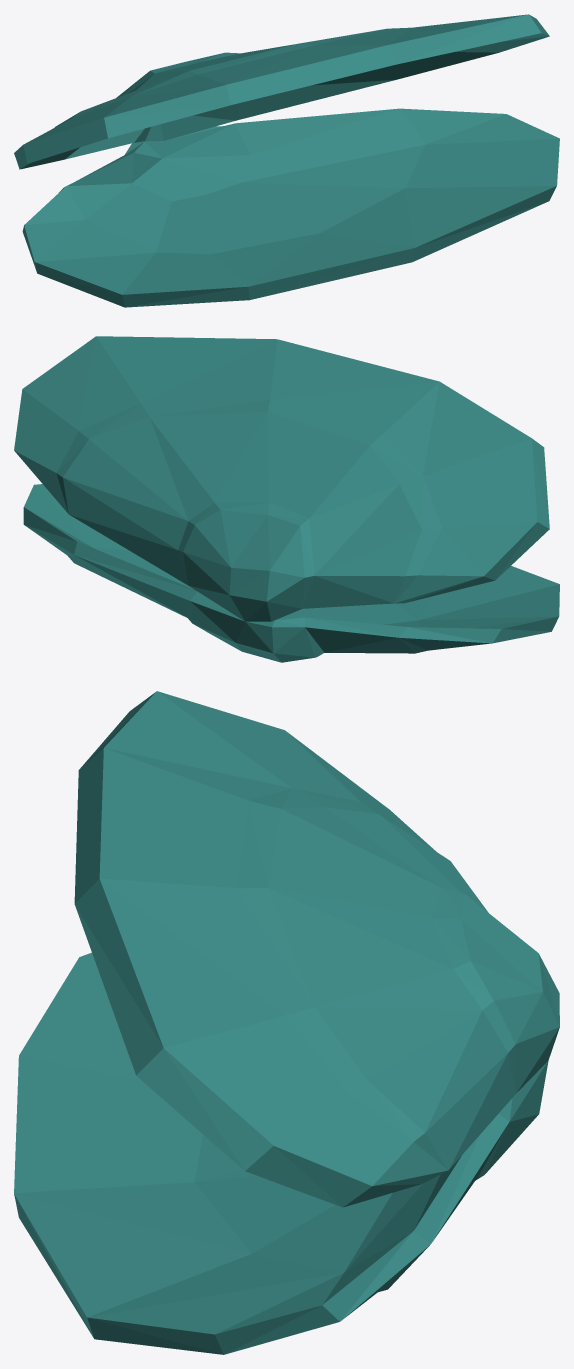
The model's file is SM_Sea_Shell_Sunrise_Venus_Open_A.fbx.
The picture shows the model from 3 angles, top to bottom: view 1: azimuth 30°, elevation 25°; view 2: azimuth 150°, elevation 25°; view 3: azimuth 270°, elevation 25°; orthographic projection. The views are drawn at different scales.
Visible parts, largest first — view 1: sea-shell-sunrise-venus-open-a; view 2: sea-shell-sunrise-venus-open-a; view 3: sea-shell-sunrise-venus-open-a.
Part boxes in pixels (box(x1,y1,x2,y2)): sea-shell-sunrise-venus-open-a: box(14, 14, 559, 307); sea-shell-sunrise-venus-open-a: box(14, 336, 559, 662); sea-shell-sunrise-venus-open-a: box(14, 691, 559, 1354).
Bounding box in the file's own units: 0.1671 × 0.0658 × 0.0894.
